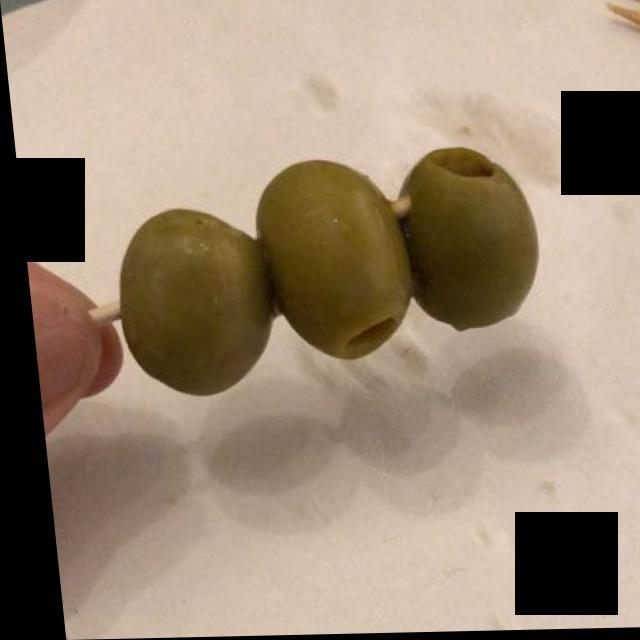green-olives: (114, 154, 529, 394)
